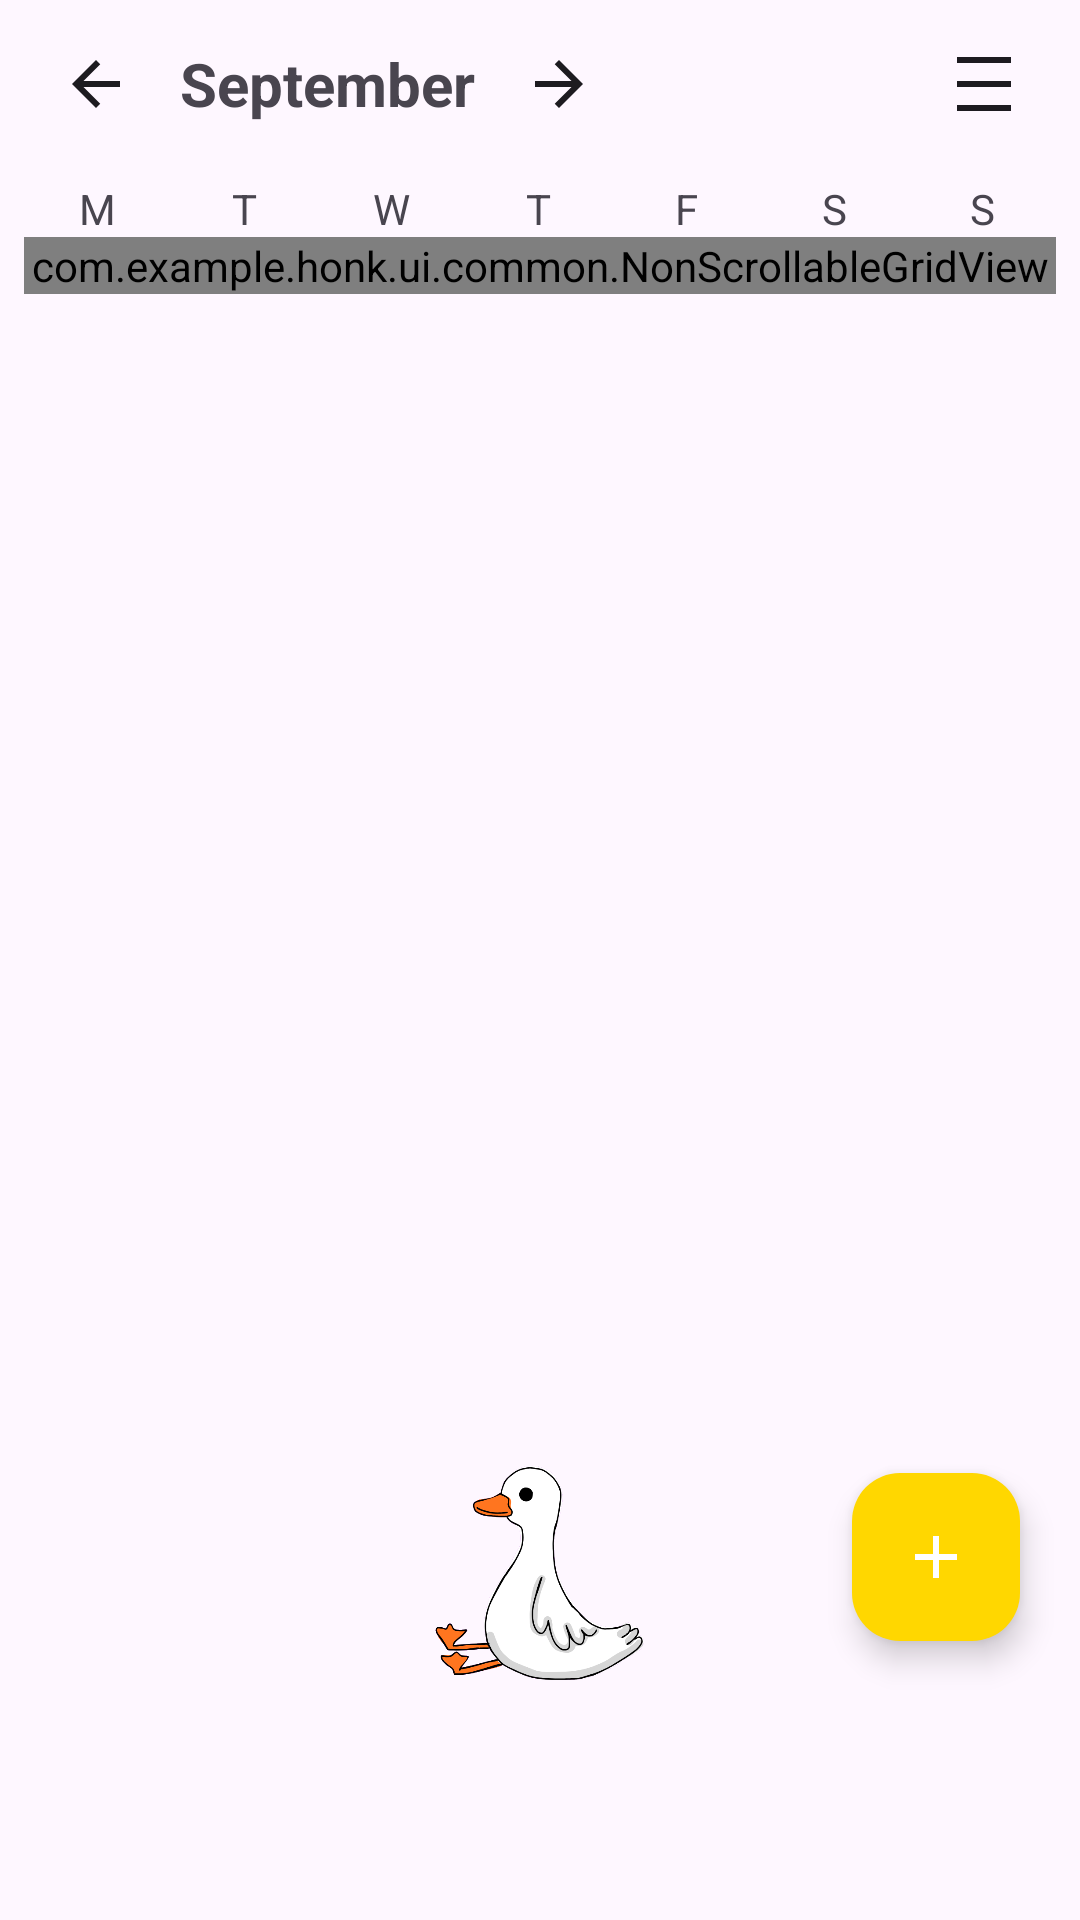

Icons on this 1080px x 1920px Android screen, each with the point to tap as point (x, y):
Add reminder: point (936, 1557)
Goose: point (539, 1573)
Next month: point (559, 84)
Previous month: point (96, 84)
